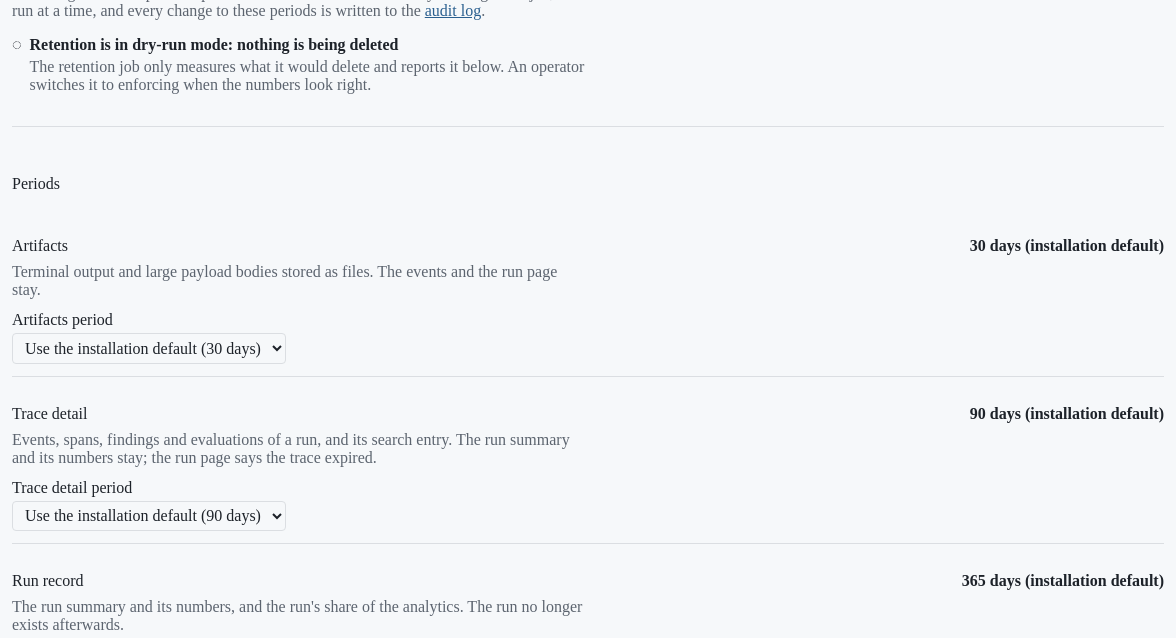
Test: editing › explains the order rule when artifacts would outlast trace detail
Select "Keep forever" in the dropdown labelled "Artifacts period" at (149, 348), box [12, 333, 286, 364]
(page scrolled)
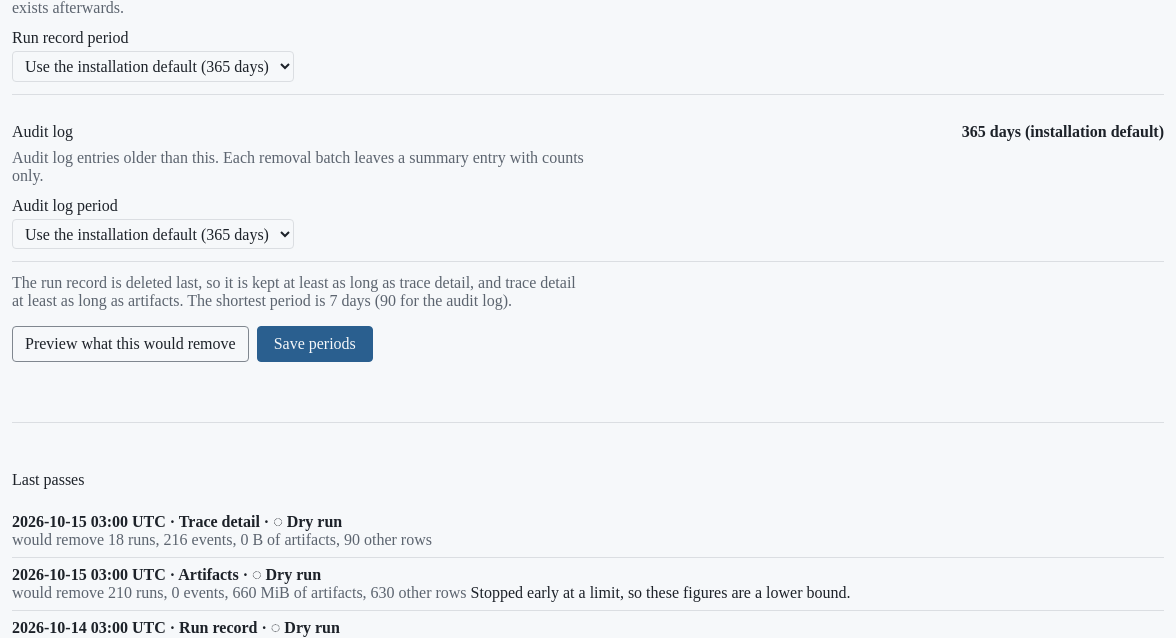
Click the button "Save periods" at (315, 344), box [257, 326, 373, 362]
(page scrolled)
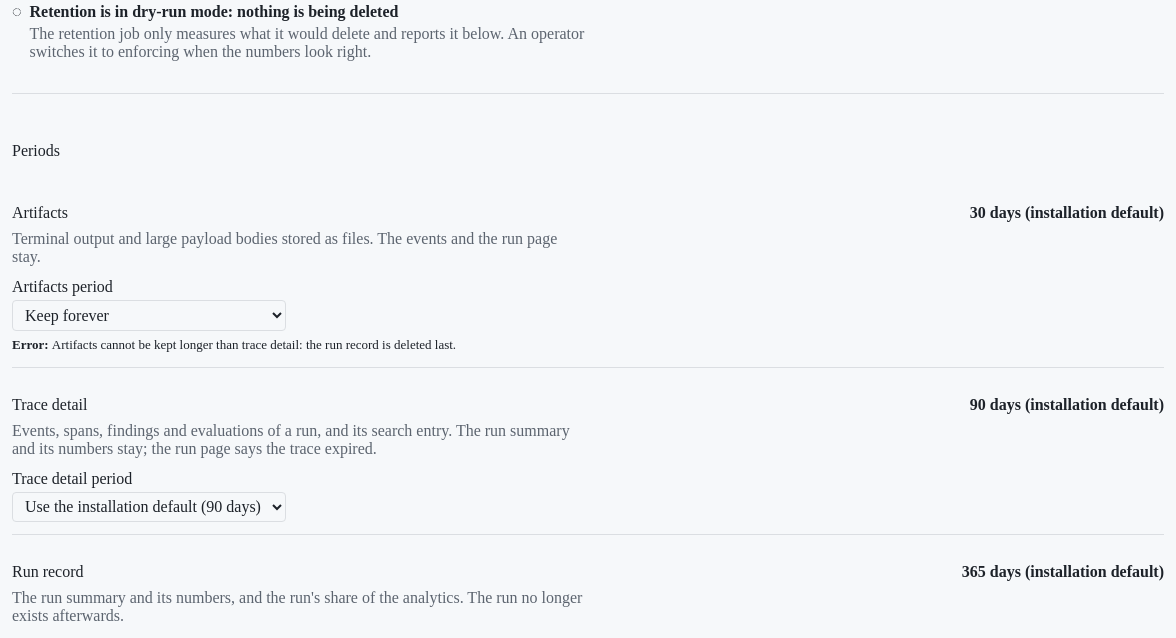
Expected: the message shows "cannot be kept longer than trace detail", [52, 337, 456, 352]
